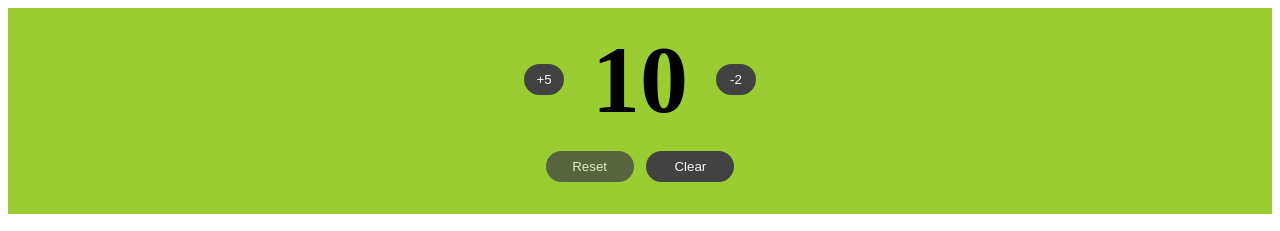
Test: +5 button › disabled if final count would exceed max
What coordinates should you click on to do the following:
click the button "+5"
I would click on:
 (544, 80)
Its box is [524, 64, 564, 95].
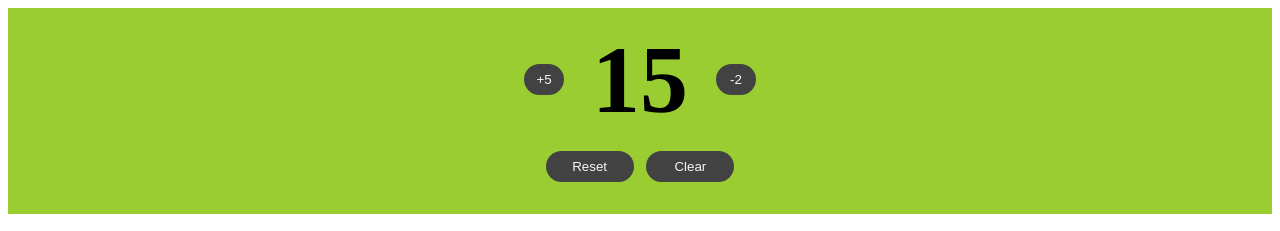
What coordinates should you click on to do the following:
click the button "+5"
I would click on:
 (544, 80)
Its box is [524, 64, 564, 95].
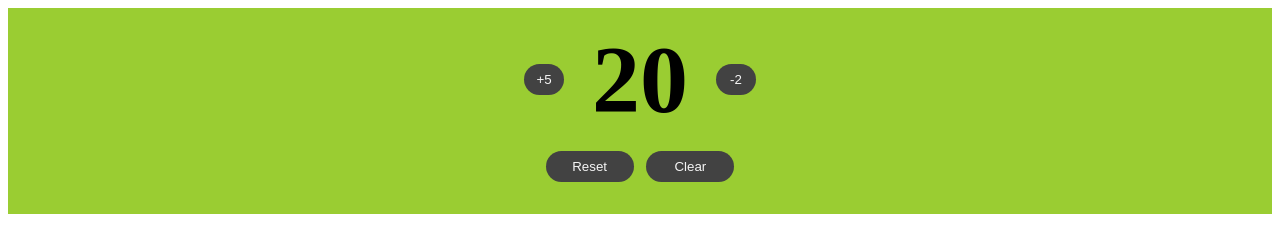
What coordinates should you click on to do the following:
click the button "+5"
I would click on:
 (544, 80)
Its box is [524, 64, 564, 95].
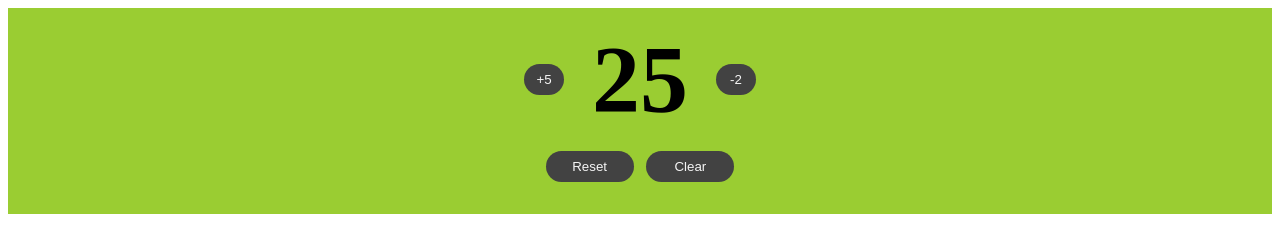
What coordinates should you click on to do the following:
click the button "+5"
I would click on:
 (544, 80)
Its box is [524, 64, 564, 95].
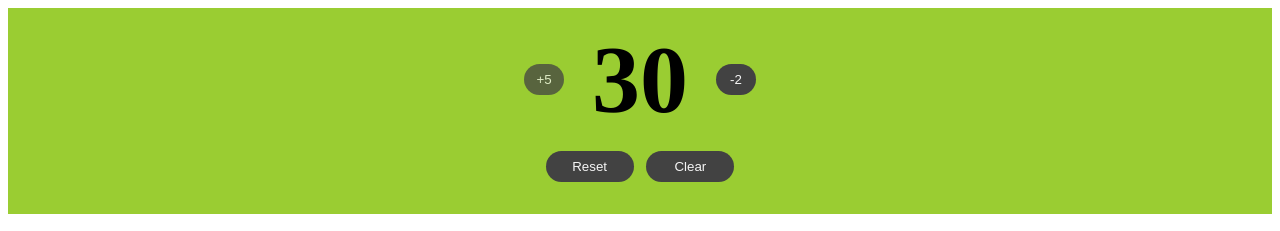
Expected: the button "+5" is disabled, [524, 64, 564, 95]
